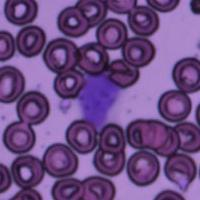M: (77, 71, 122, 132)
